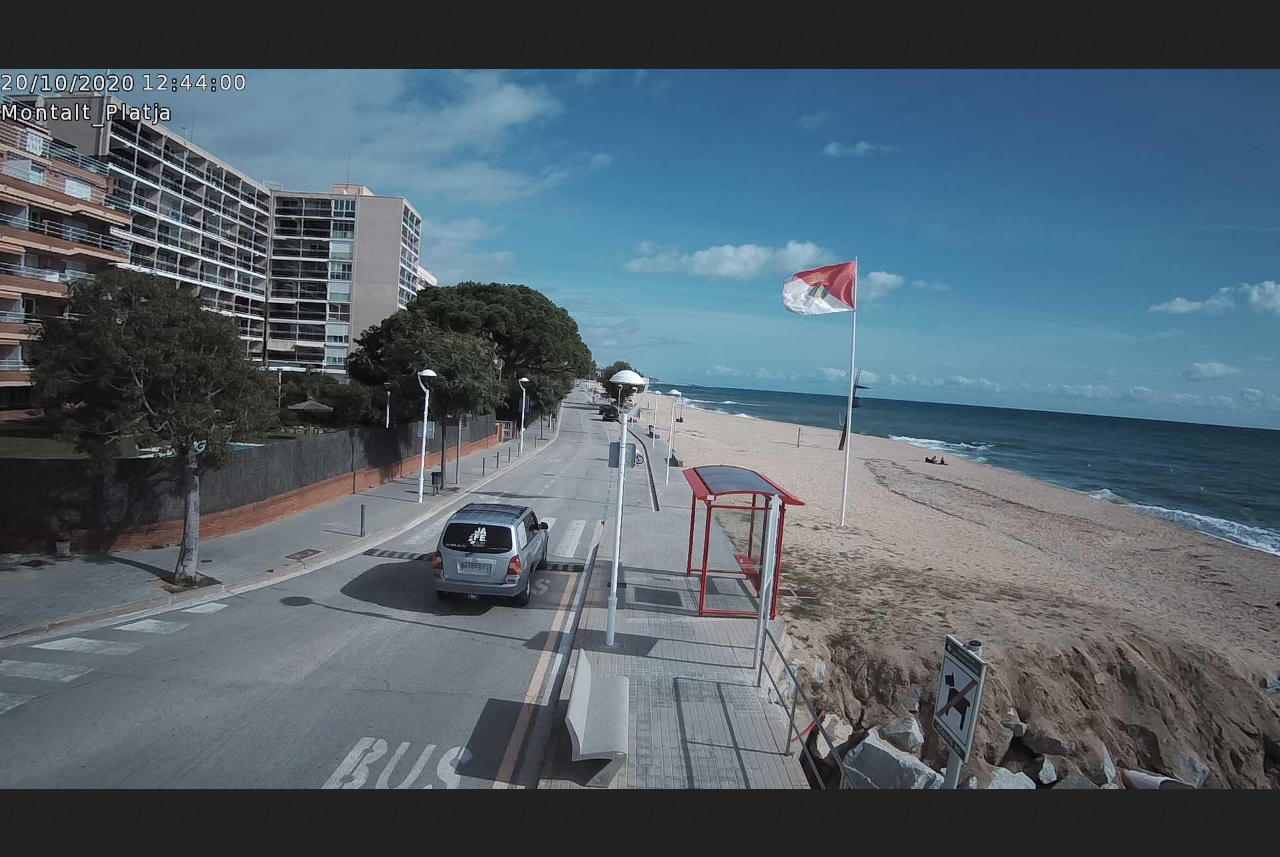yes: (777, 262, 857, 315)
